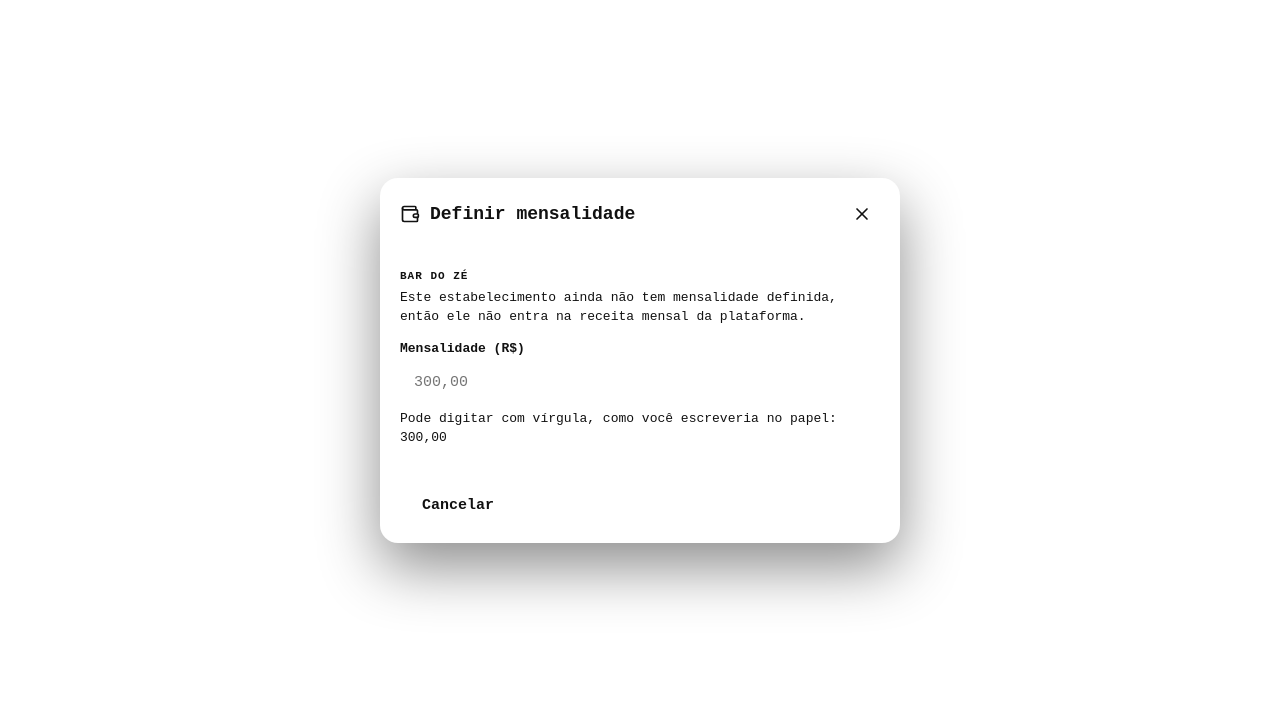
DefinirMensalidadeModal, o preço da plataforma › digitar 0 em quem já está sem preço explica o botão travado
The width and height of the screenshot is (1280, 720).
In the field: (640, 382) x1=400 y1=362 x2=880 y2=402, type "0"
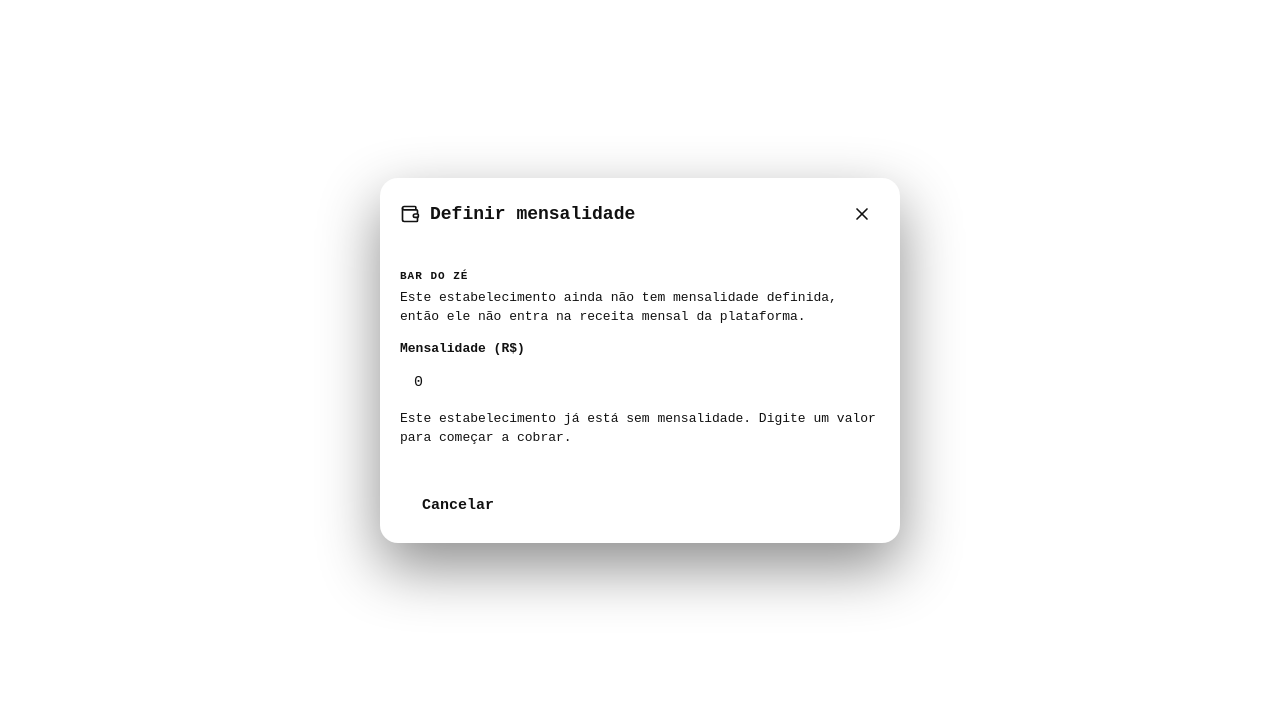
Expected: the text "já está sem mensalidade. Digite um valor para começar a cobrar" is shown, x1=400 y1=410 x2=876 y2=445
